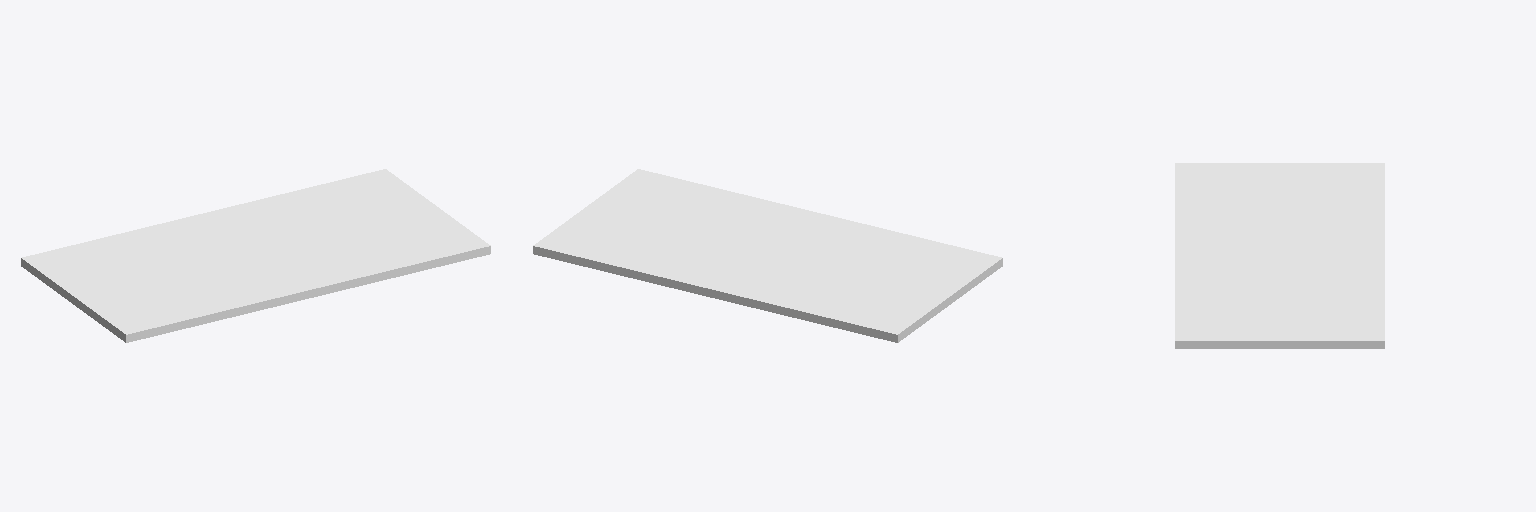
File: Cell_Floor.obj
3 renders of one model, left to right at view 1: azimuth 30°, elevation 25°; view 2: azimuth 150°, elevation 25°; view 3: azimuth 270°, elevation 25°, orthographic.
Size of the model in its own units: 46 by 1 by 23.